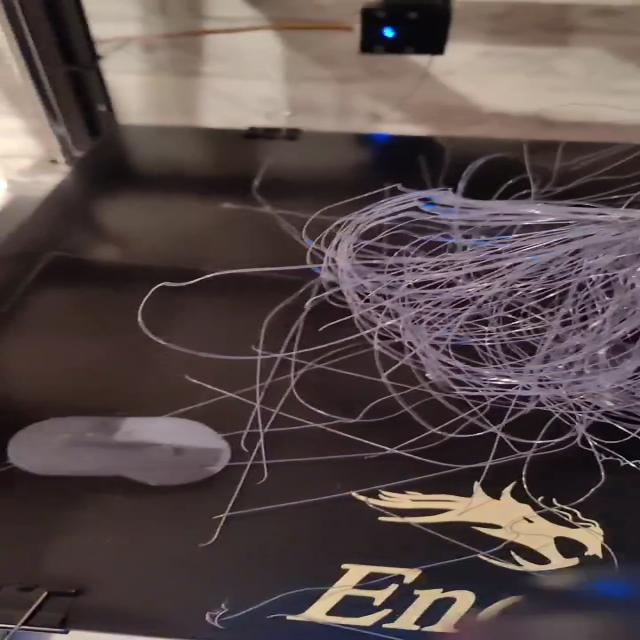spaghetti: (115, 144, 640, 551)
